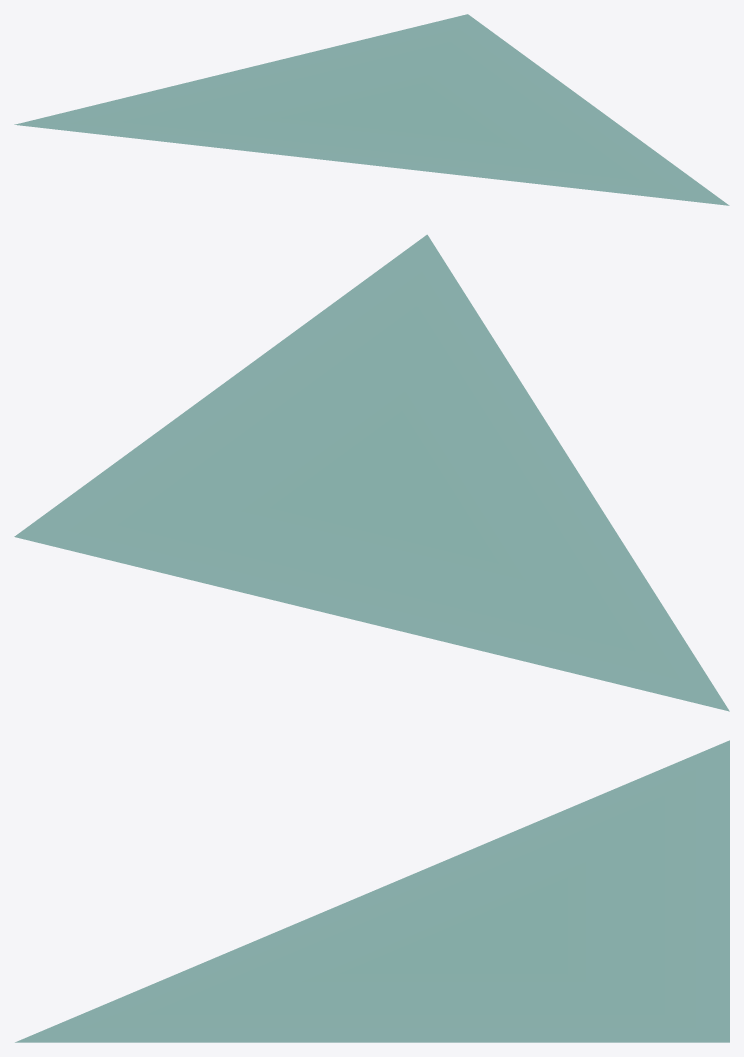
File: water-17-12.glb
3 renders of one model, top to bottom at view 1: azimuth 30°, elevation 25°; view 2: azimuth 150°, elevation 25°; view 3: azimuth 270°, elevation 25°, orthographic. The views are drawn at different scales.
Bounding box in the file's own units: 8 × 0 × 8.
